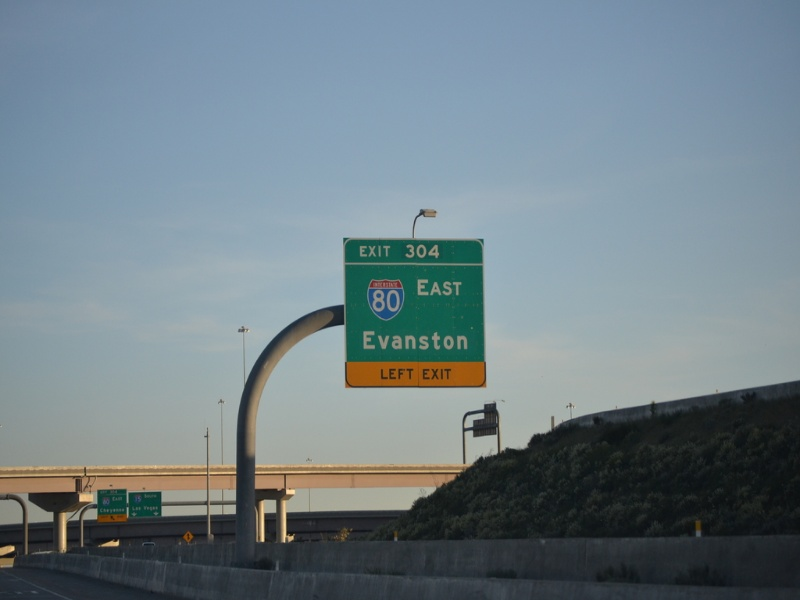exit: (346, 237, 491, 274)
exit_left: (342, 364, 487, 406)
